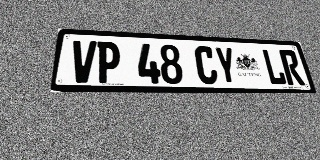4: (137, 43, 161, 84)
8: (159, 44, 183, 84)
C: (194, 46, 219, 84)
L: (261, 49, 287, 85)
P: (95, 41, 120, 83)
R: (278, 50, 305, 85)
V: (69, 40, 97, 83)
Y: (214, 47, 239, 85)
